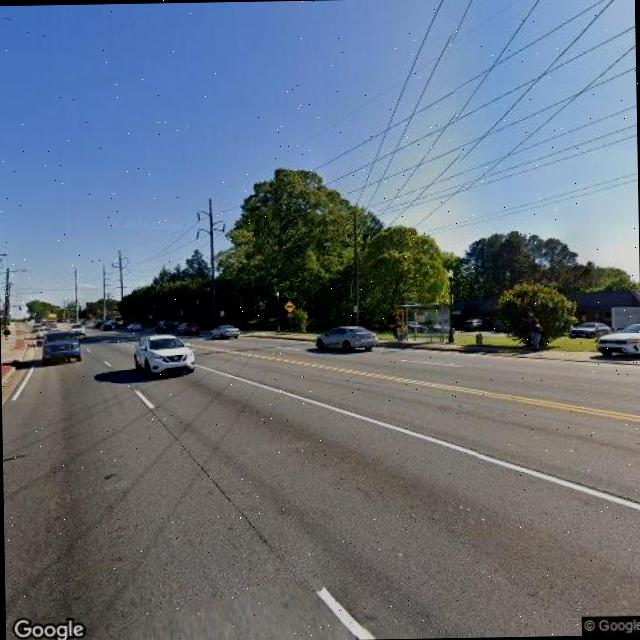seating: (424, 332, 442, 342)
shelter: (401, 302, 452, 344)
